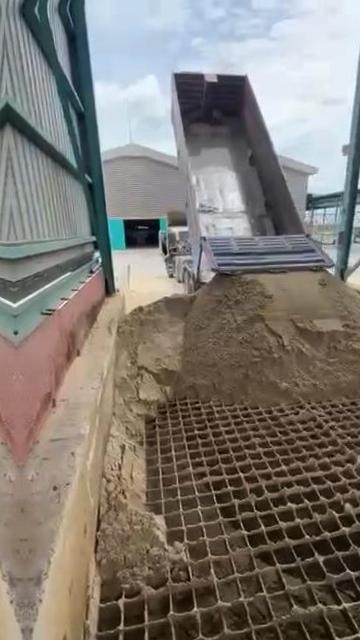sand: (99, 272, 360, 594)
